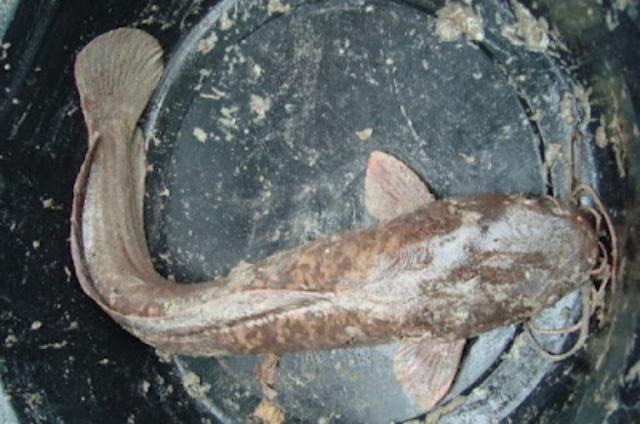Sirip Dada: (349, 142, 481, 424)
Sirip Ekor: (54, 8, 178, 162)
Sirip Punggung: (38, 130, 340, 348)
